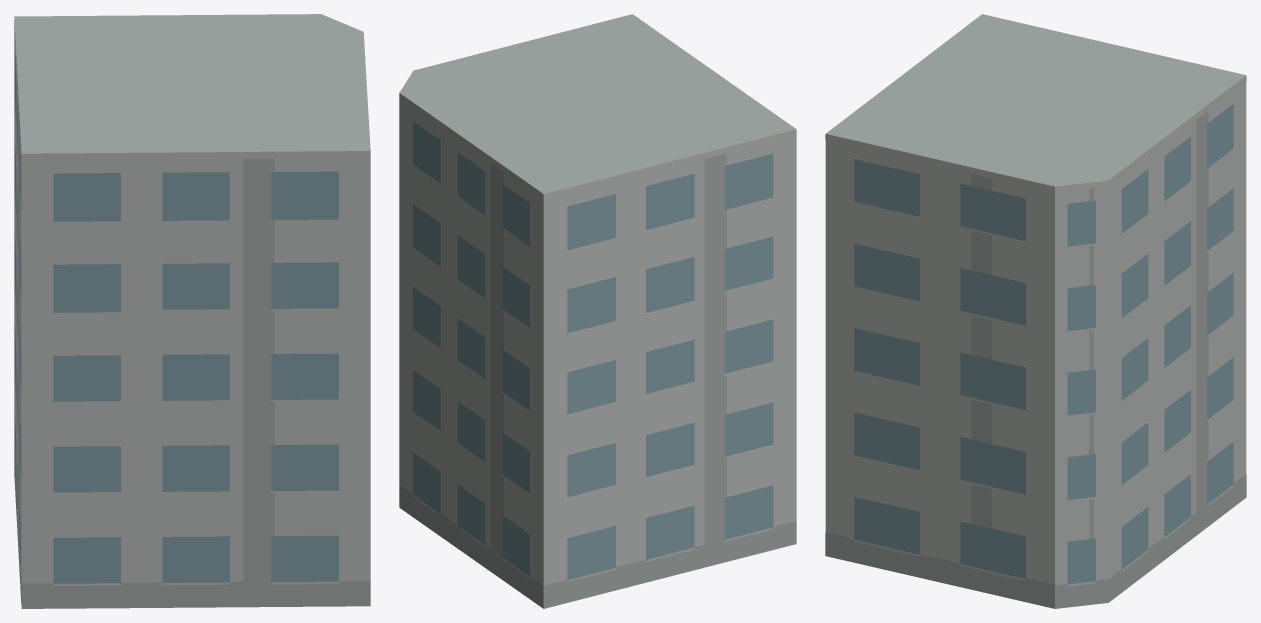
Rendered from survey-upis-32682610.glb.
3 views of the same model, side by side, from view 1: azimuth 30°, elevation 25°; view 2: azimuth 150°, elevation 25°; view 3: azimuth 270°, elevation 25° (orthographic). The views are drawn at different scales.
Parts seen in each view (by area): view 1: survey-upis-32682610.tmp; view 2: survey-upis-32682610.tmp; view 3: survey-upis-32682610.tmp.
Boxes of the visible parts, left/top/right/bottom form: survey-upis-32682610.tmp: left=14, top=14, right=370, bottom=608; survey-upis-32682610.tmp: left=399, top=14, right=796, bottom=608; survey-upis-32682610.tmp: left=825, top=14, right=1246, bottom=608.
Bounding box in the file's own units: 14.12 × 16.1 × 14.55.
